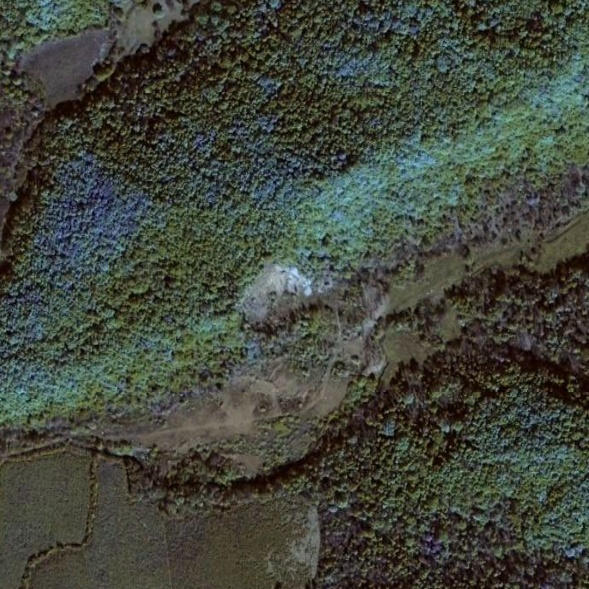slope: (235, 257, 320, 333)
